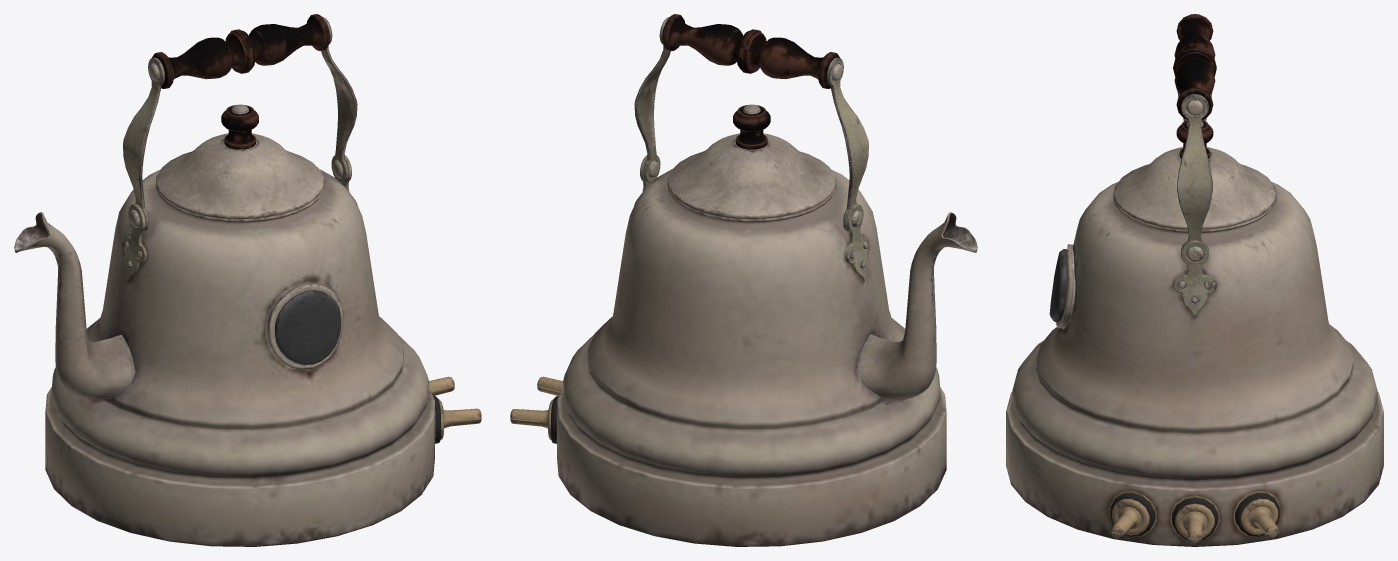
Rendered from vintage_electric_kettle.glb.
3 renders of one model, left to right at view 1: azimuth 30°, elevation 25°; view 2: azimuth 150°, elevation 25°; view 3: azimuth 270°, elevation 25°, orthographic. The views are drawn at different scales.
Visible parts, largest first — view 1: vintage_electric_kettle; view 2: vintage_electric_kettle; view 3: vintage_electric_kettle.
Boxes of the visible parts, x1=… form: vintage_electric_kettle: x1=14, y1=14, x2=481, y2=546; vintage_electric_kettle: x1=510, y1=14, x2=977, y2=546; vintage_electric_kettle: x1=1006, y1=14, x2=1383, y2=546.
Bounding box in the file's own units: 0.3209 × 0.3047 × 0.2486.
2 materials, 2 textured.
